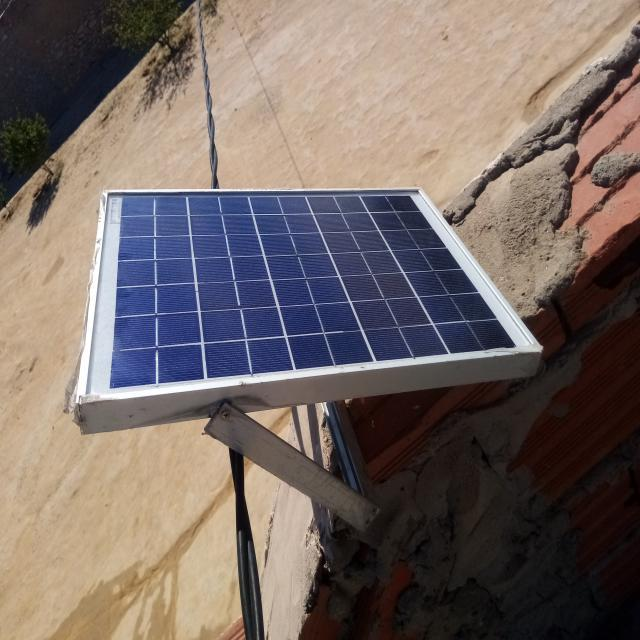no faulty: (78, 187, 539, 403)
